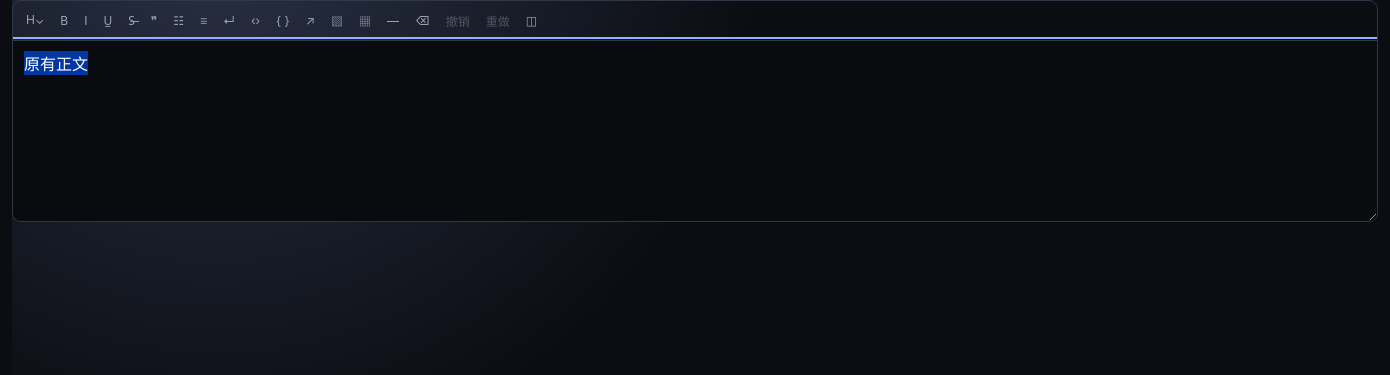
Test: supports heading levels, clearing with undo, and a safe preview without submitting
Click the button named "正文：标题" at (35, 20), box x1=19 y1=7 x2=51 y2=32
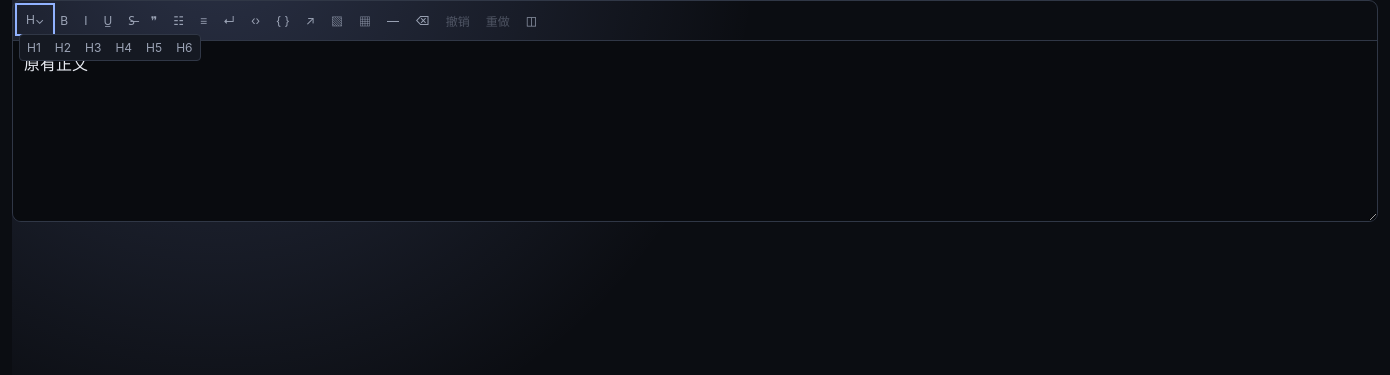
Click the button "H3" at (93, 48), box x1=78 y1=35 x2=108 y2=60
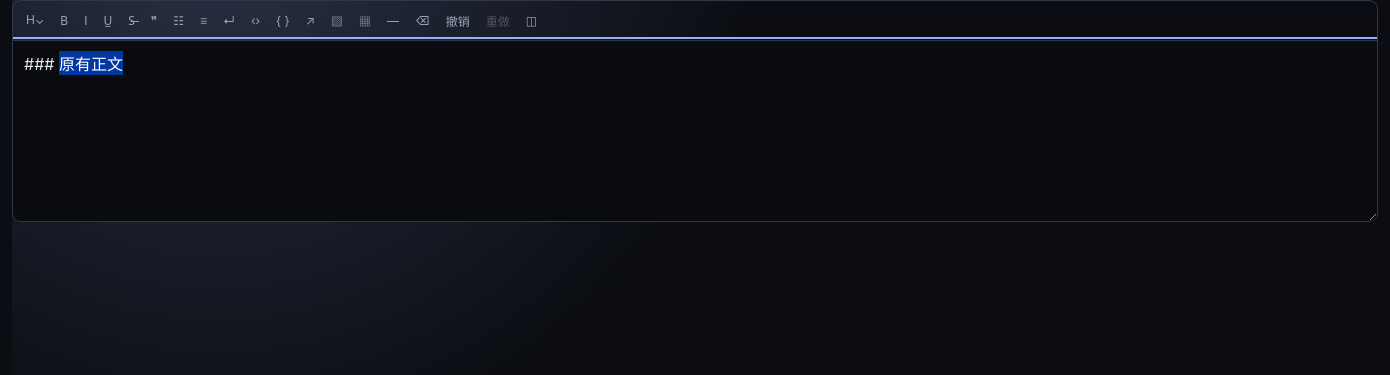
Expected: the text box named "正文" holds "### 原有正文", x1=13 y1=41 x2=1377 y2=221
Click the button named "正文：显示编辑器与预览" at (531, 20), box x1=519 y1=7 x2=544 y2=34
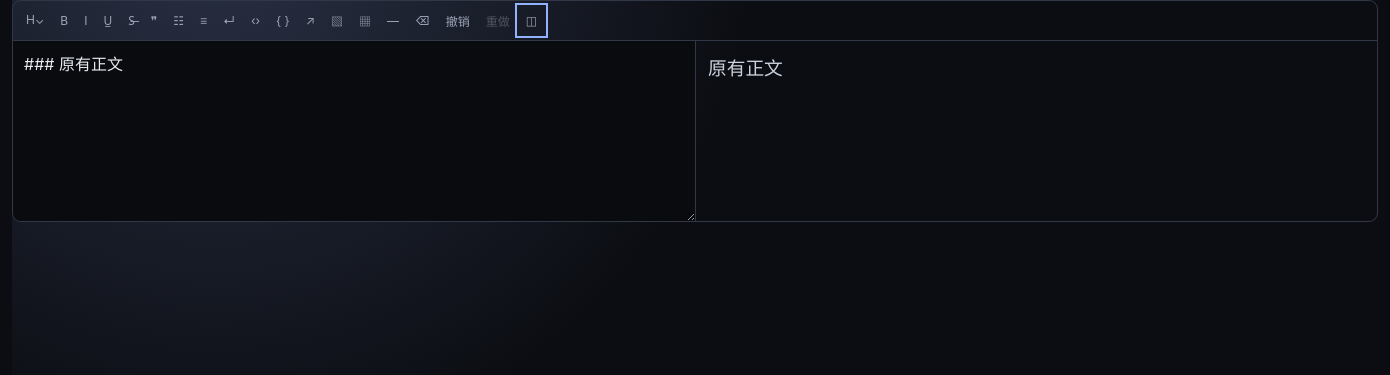
Expected: the heading "原有正文" is shown, x1=708 y1=57 x2=783 y2=80
Click the button named "正文：清空" at (422, 20), box x1=408 y1=7 x2=437 y2=34
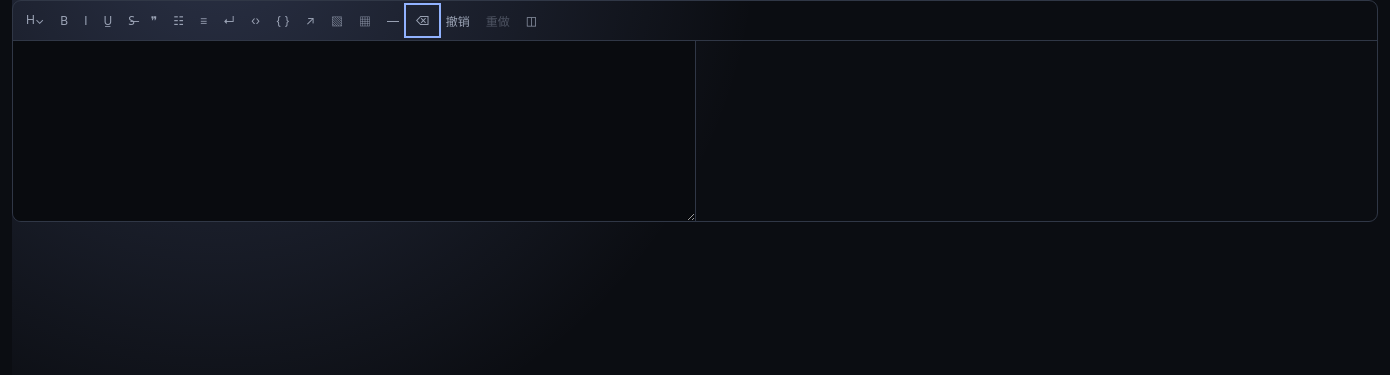
Expected: the text box named "正文" is empty, x1=13 y1=41 x2=695 y2=221
Click the button "撤销" at (458, 20), box x1=439 y1=7 x2=477 y2=34
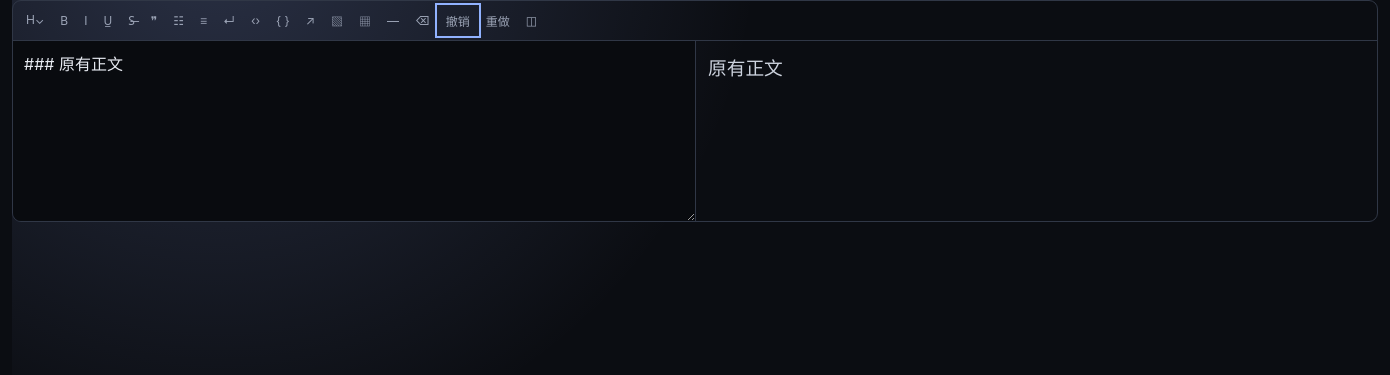
Expected: the text box named "正文" holds "### 原有正文", x1=13 y1=41 x2=695 y2=221
